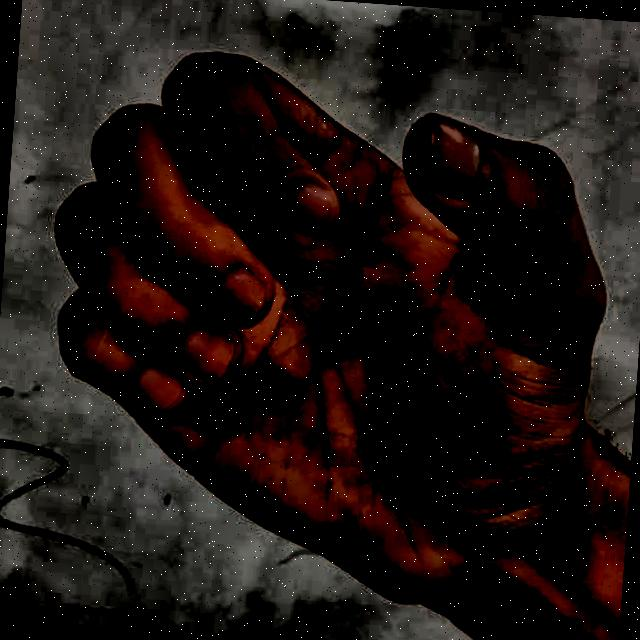Dho: (19, 28, 634, 626)
